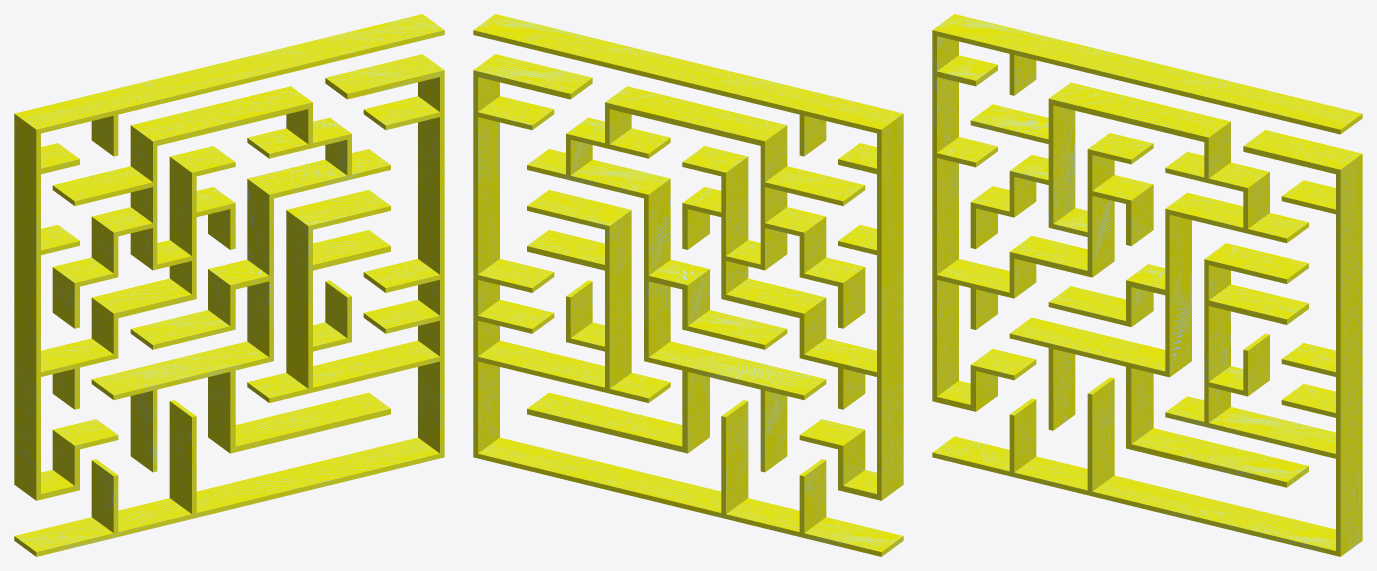
File: UniqueSolutionMaze_env.dae
3 renders of one model, left to right at view 1: azimuth 30°, elevation 25°; view 2: azimuth 150°, elevation 25°; view 3: azimuth 330°, elevation 25°, orthographic.
Visible parts, largest first — view 1: instance_0 (×8); view 2: instance_0 (×8); view 3: instance_0 (×9).
Part boxes in pixels (x1=…): instance_0 (×8): x1=14, y1=14, x2=444, y2=556; instance_0 (×8): x1=473, y1=14, x2=903, y2=556; instance_0 (×9): x1=932, y1=14, x2=1362, y2=556.
Size of the model in its own units: 100 by 9.38 by 100.
